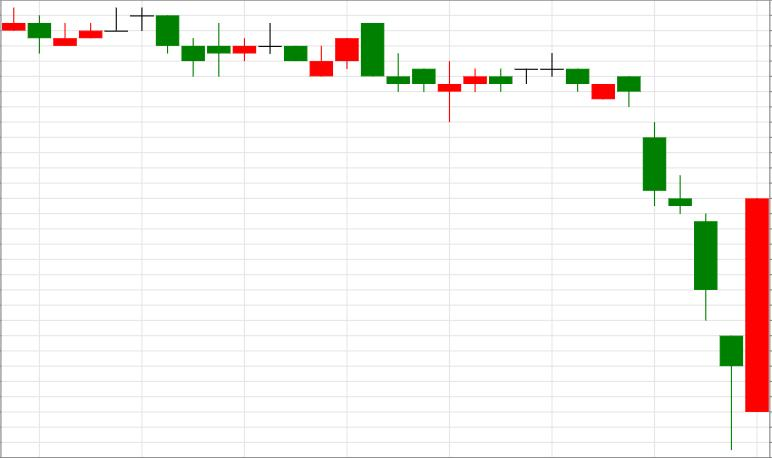hammer_rise: (565, 68, 742, 451)
